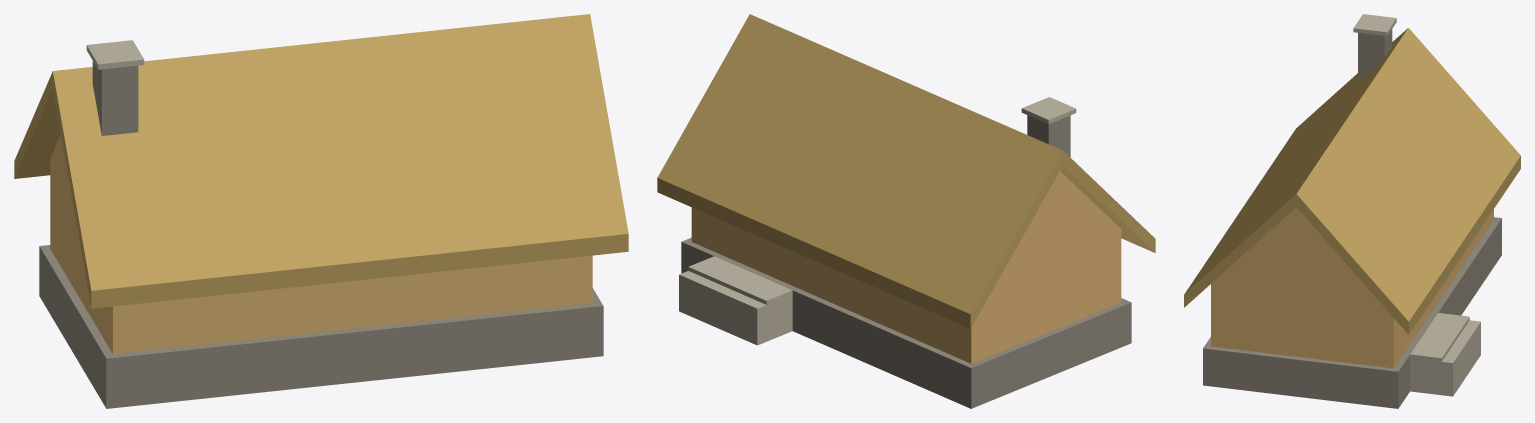
The model's file is SM_Millbrook_House4.fbx.
The picture shows the model from 3 angles, left to right: view 1: azimuth 30°, elevation 25°; view 2: azimuth 150°, elevation 25°; view 3: azimuth 270°, elevation 25°; orthographic projection. The views are drawn at different scales.
Visible parts, largest first — view 1: SM_Millbrook_House4; view 2: SM_Millbrook_House4; view 3: SM_Millbrook_House4.
Part boxes in pixels (x1,y1,x2,y2): SM_Millbrook_House4: (14, 14, 628, 408); SM_Millbrook_House4: (657, 14, 1155, 408); SM_Millbrook_House4: (1184, 14, 1520, 408).
Bounding box in the file's own units: 12.52 × 6.9 × 9.22.
